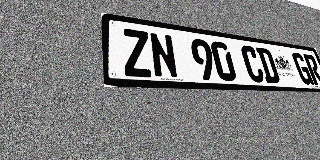0: (209, 41, 237, 81)
9: (189, 38, 218, 81)
C: (239, 45, 266, 83)
D: (255, 47, 281, 83)
G: (291, 52, 314, 85)
N: (148, 32, 179, 79)
R: (303, 54, 320, 85)
Z: (121, 28, 153, 78)
